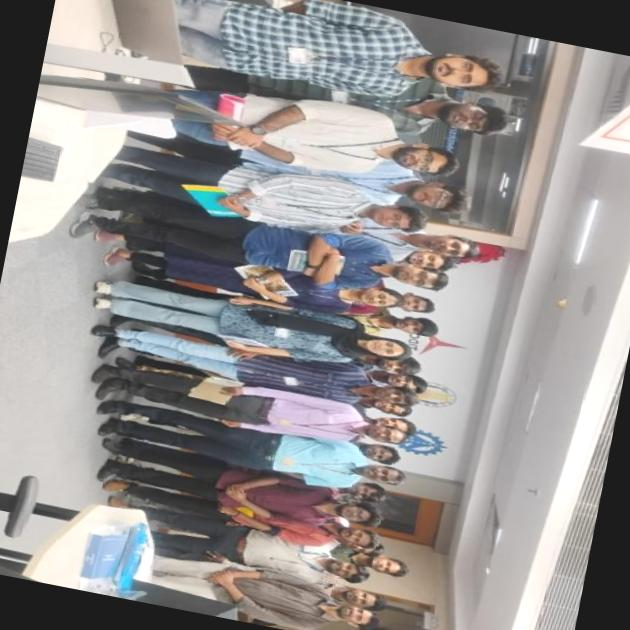there is a person: (0, 414, 383, 528), (37, 256, 405, 373), (112, 0, 454, 97), (152, 64, 423, 185), (100, 395, 396, 485), (164, 148, 403, 232), (178, 198, 398, 287), (161, 549, 387, 630), (174, 238, 382, 316), (180, 370, 386, 446), (182, 328, 373, 407), (221, 522, 369, 584)
